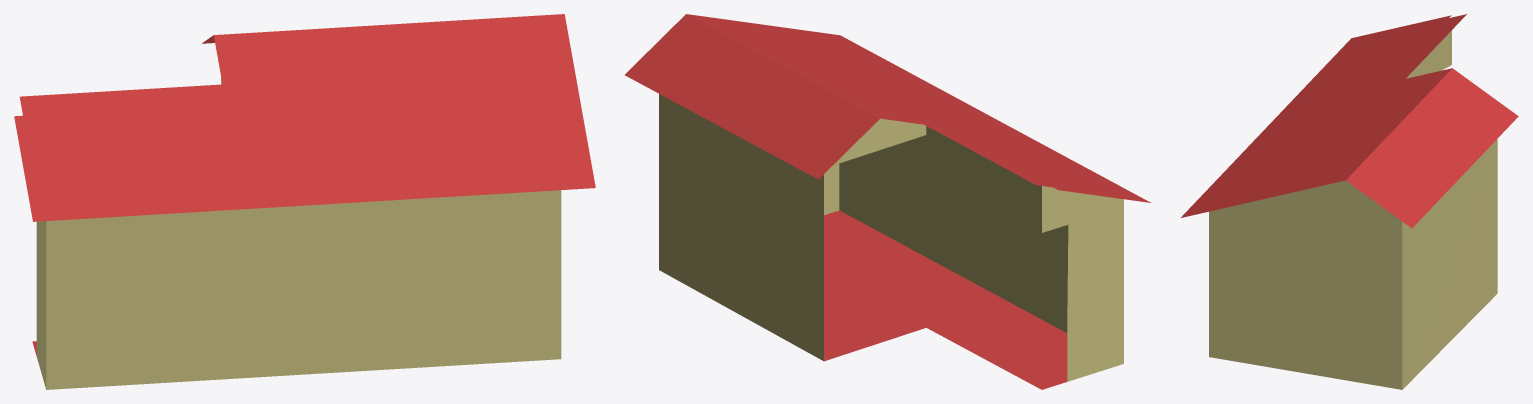
The picture shows the model from 3 angles, left to right: view 1: azimuth 30°, elevation 25°; view 2: azimuth 150°, elevation 25°; view 3: azimuth 270°, elevation 25°; orthographic projection. The views are drawn at different scales.
Bounding box in the file's own units: 19.74 × 12.87 × 8.87.
